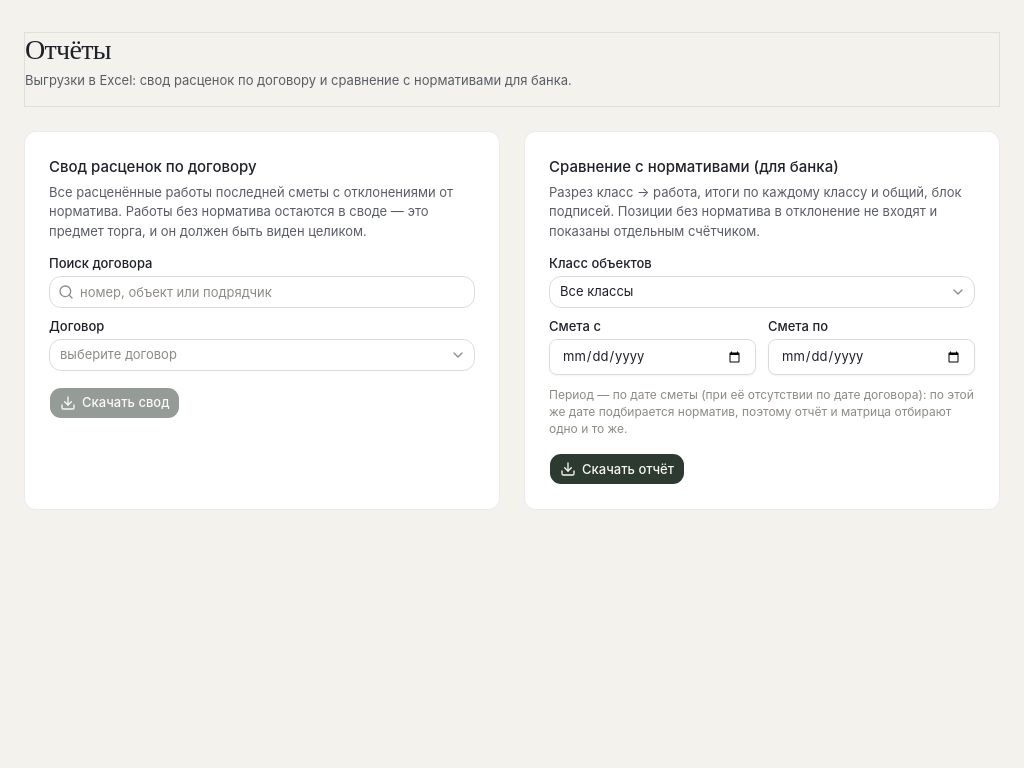
Test case: Экран отчётов › причина отказа доходит до человека ТЕКСТОМ СЕРВЕРА, а не по-английски
The width and height of the screenshot is (1024, 768).
Check: the heading "Сравнение с нормативами (для банка)" is shown, box [549,157,839,176]
Step 1. Click the button "Скачать отчёт" → (617, 470), box [549,454,685,486]
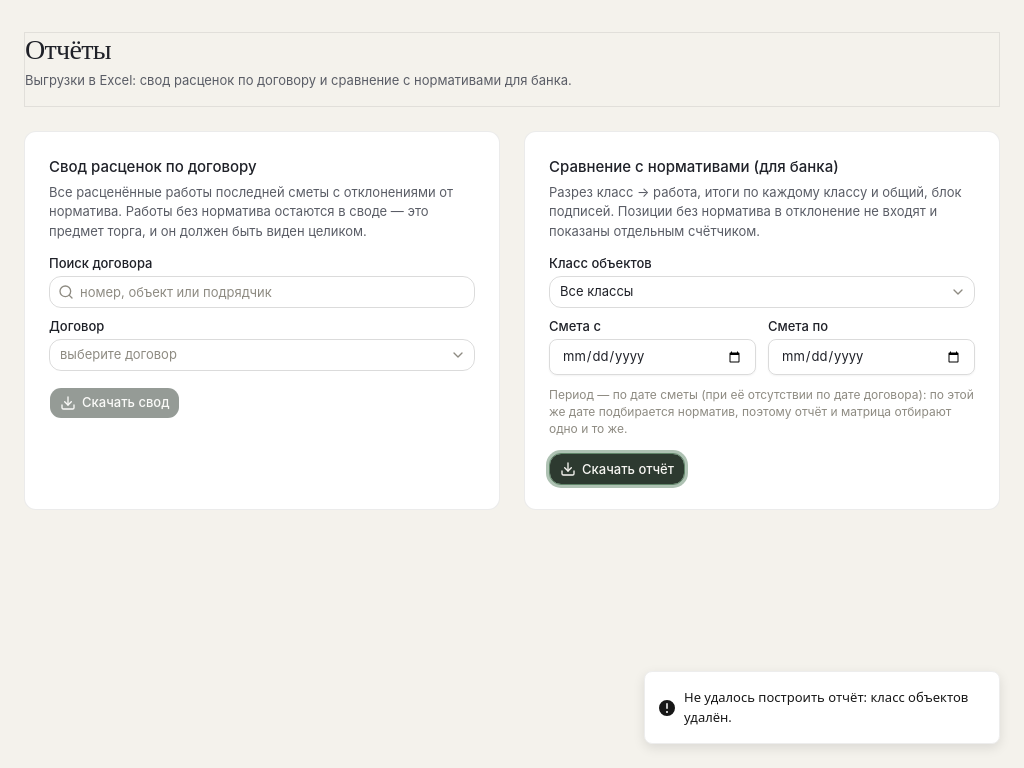
Check: the text "Не удалось построить отчёт: класс объектов удалён." is shown, box [684,688,983,727]
